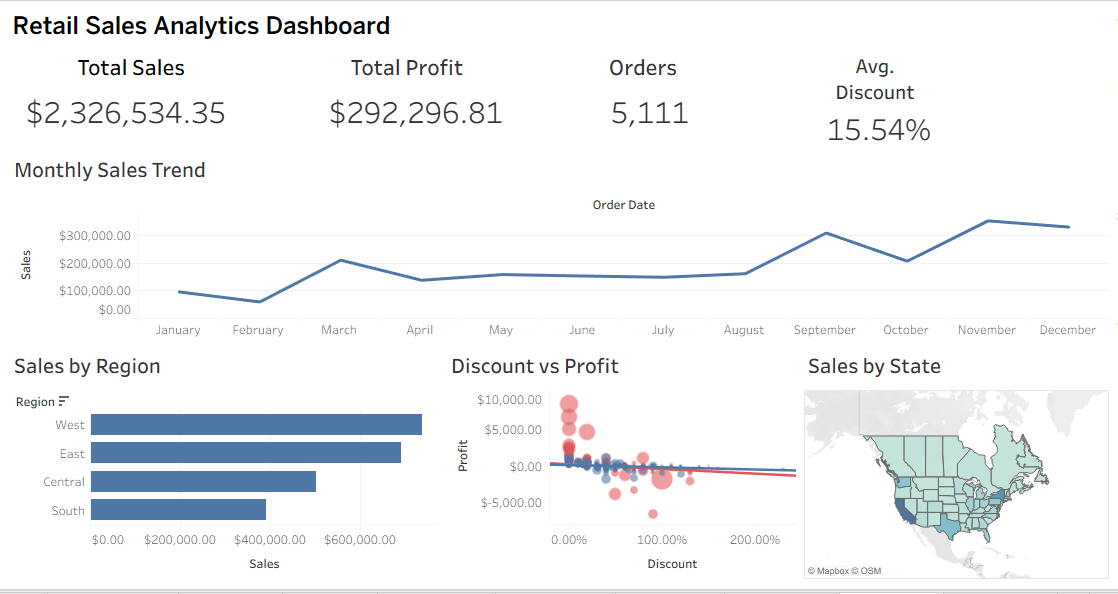

Layout of this report page (visuals, bound fields, positions):
{"tool":"tableau","page":{"name":"Dashboard 3","canvas":[1000,1000],"units":"permille","ordinal":0},"visuals":[{"type":"title","box":[7.4,13.5,955.9,62.5]},{"type":"filter","title":"Sales by Region","param":"[federated.1cxbya21p809c611jwfkw1vmpjc6].[none:Order Year:qk]","box":[963.3,13.5,29.4,116.5]},{"type":"worksheet","title":"KPI-Total Sales","mark":"Automatic","box":[7.4,76,256.7,174]},{"type":"worksheet","title":"KPI-Total Profit","mark":"Automatic","box":[264.1,76,246.6,174]},{"type":"worksheet","title":"KPI-Total Orders","mark":"Automatic","box":[510.7,76,191.9,174]},{"type":"worksheet","title":"Average Discount","mark":"Automatic","box":[702.6,76,260.7,174]},{"type":"filter","title":"Sales by Region","param":"[federated.1cxbya21p809c611jwfkw1vmpjc6].[none:Region:nk]","box":[963.3,130.1,29.4,214.5]},{"type":"worksheet","title":"Monthly Sales Trend","mark":"Line","rows":["Sales"],"cols":["Order Date"],"box":[7.4,250,955.9,331.1]},{"type":"filter","title":"Sales by Region","param":"[federated.1cxbya21p809c611jwfkw1vmpjc6].[none:Segment:nk]","box":[963.3,344.6,29.4,182.4]},{"type":"filter","title":"Sales by Region","param":"[federated.1cxbya21p809c611jwfkw1vmpjc6].[none:Category:nk]","box":[963.3,527,29.4,182.4]},{"type":"worksheet","title":"Sales by Region","mark":"Automatic","rows":["Region"],"cols":["Sales"],"box":[7.4,581.1,377.6,405.4]},{"type":"worksheet","title":"Discount vs Profit","mark":"Circle","rows":["Profit"],"cols":["Discount"],"box":[384.9,581.1,308,405.4]},{"type":"worksheet","title":"Sales by State","mark":"Multipolygon","box":[692.9,581.1,270.4,405.4]}]}

Visuals, with their boxes on the dashboard's canvas, which has no fixed pixel size, in thousandths of its width and height (x1, y1, x2, y2). These are canvas units, not pixel positions in the 1118x594 screenshot, which may show the page scaled, cropped or inside an application window:
title: region(7, 14, 963, 76)
"Sales by Region" filter: region(963, 14, 993, 130)
"KPI-Total Sales" worksheet: region(7, 76, 264, 250)
"KPI-Total Profit" worksheet: region(264, 76, 511, 250)
"KPI-Total Orders" worksheet: region(511, 76, 703, 250)
"Average Discount" worksheet: region(703, 76, 963, 250)
"Sales by Region" filter: region(963, 130, 993, 345)
"Monthly Sales Trend" worksheet (Line marks): region(7, 250, 963, 581)
"Sales by Region" filter: region(963, 345, 993, 527)
"Sales by Region" filter: region(963, 527, 993, 709)
"Sales by Region" worksheet: region(7, 581, 385, 986)
"Discount vs Profit" worksheet (Circle marks): region(385, 581, 693, 986)
"Sales by State" worksheet (Multipolygon marks): region(693, 581, 963, 986)
